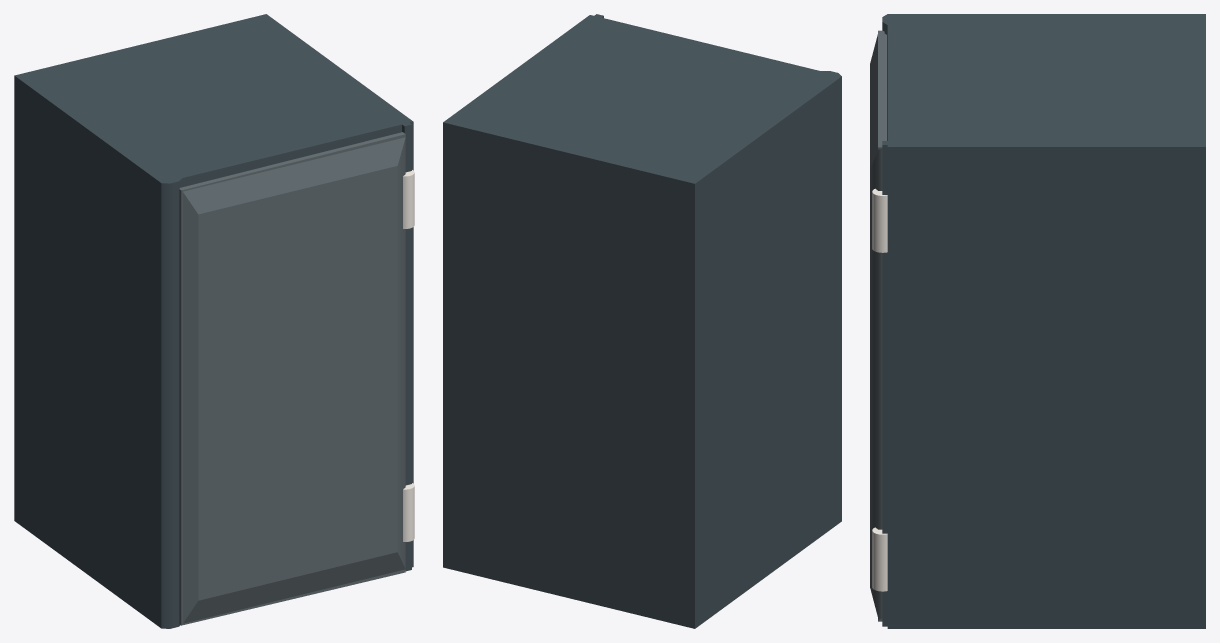
Rendered from Fridge.fbx.
3 views of the same model, side by side, from view 1: azimuth 30°, elevation 25°; view 2: azimuth 150°, elevation 25°; view 3: azimuth 270°, elevation 25° (orthographic). The views are drawn at different scales.
Visible parts, largest first — view 1: pCylinder3, pCube2; view 2: pCylinder3; view 3: pCylinder3, pCube2.
Part boxes in pixels (bbox=[...]): pCylinder3: bbox=[14, 14, 414, 628]; pCube2: bbox=[179, 132, 405, 625]; pCylinder3: bbox=[443, 14, 841, 628]; pCylinder3: bbox=[872, 14, 1205, 628]; pCube2: bbox=[870, 30, 886, 621].
Size of the model in its own units: 5.91 by 9.97 by 6.3.
